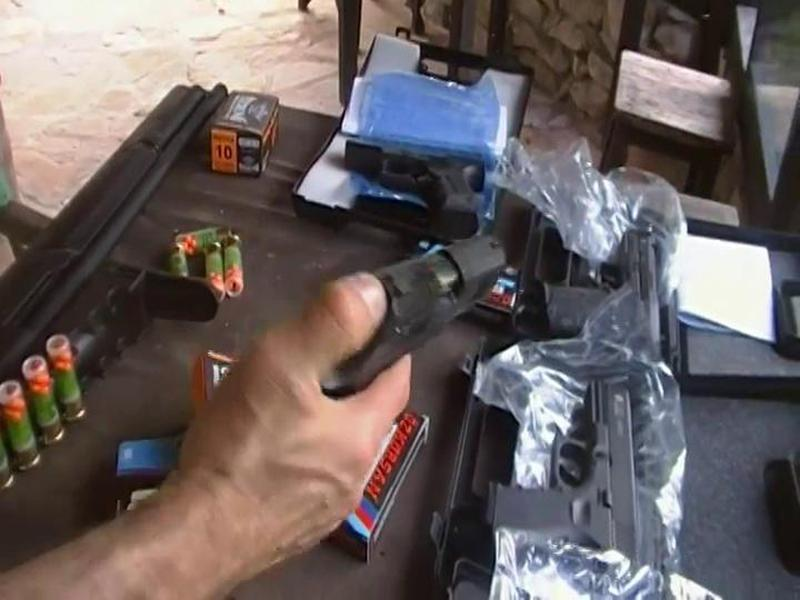Pistola: (274, 194, 539, 406)
